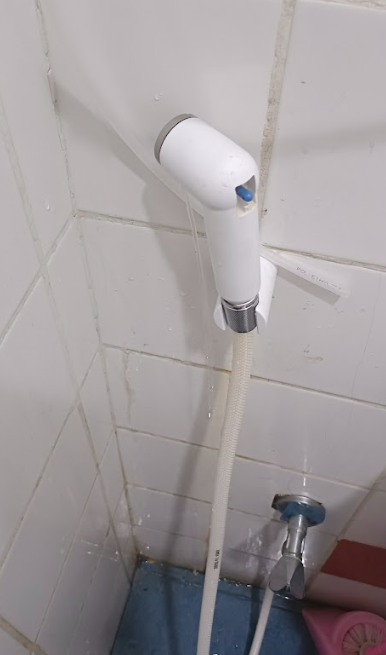Toilet: (110, 85, 341, 651)
